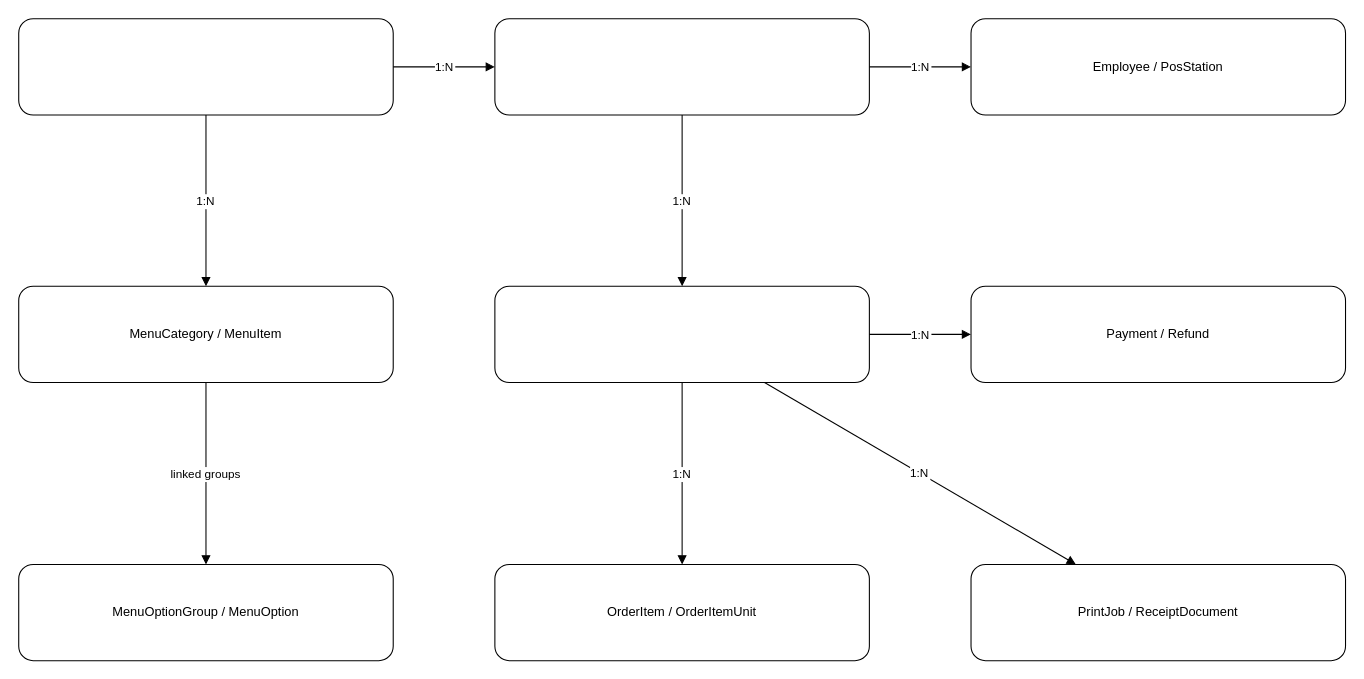
The diagram is 1364 pixels wide and 679 high, and some of its shapes have lost their labels. The centre of each missing label's shape, as x and y in pixels:
"Branch" belongs at point (681, 66).
"Order" belongs at point (681, 334).
"RestaurantChain" belongs at point (205, 66).
